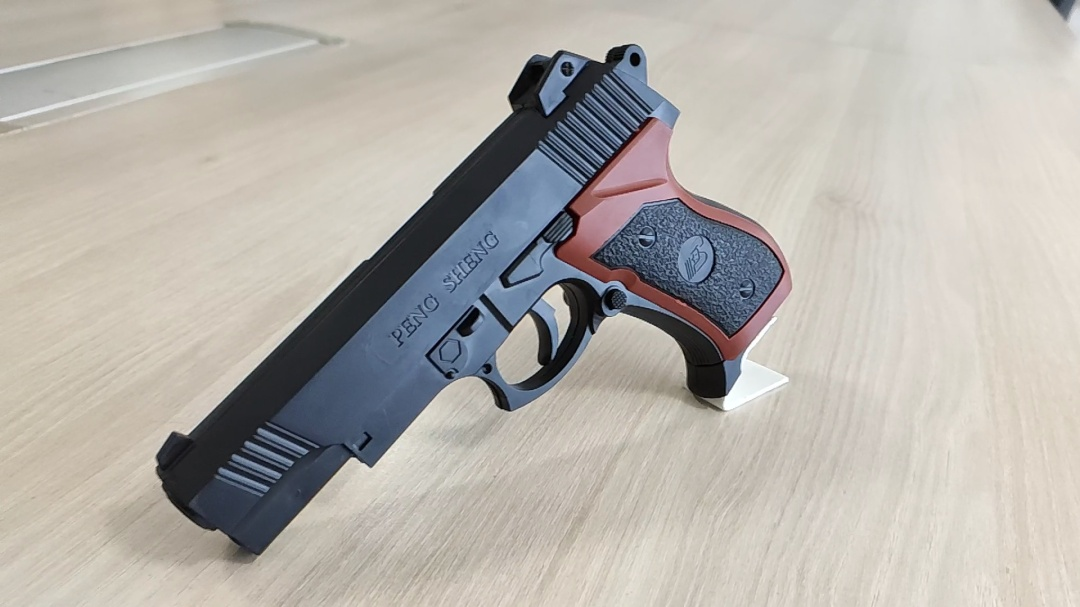gun: (153, 41, 798, 559)
